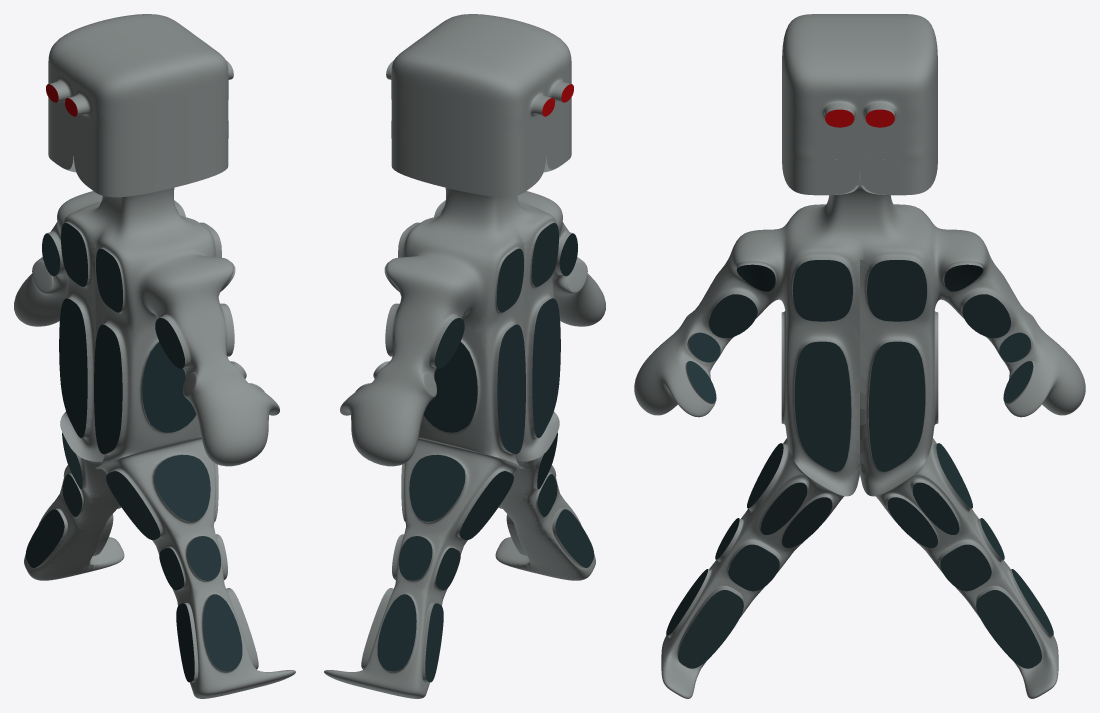
Rendered from character3.fbx.
3 views of the same model, side by side, from view 1: azimuth 30°, elevation 25°; view 2: azimuth 150°, elevation 25°; view 3: azimuth 270°, elevation 25° (orthographic). The views are drawn at different scales.
Parts seen in each view (by area): view 1: body, head, armor; view 2: body, head, armor; view 3: body, armor, head, eye2.
Boxes of the visible parts, bbox=[...] form: body: bbox=[14, 156, 295, 698]; head: bbox=[48, 14, 233, 197]; armor: bbox=[25, 223, 242, 682]; body: bbox=[324, 156, 605, 698]; head: bbox=[386, 14, 571, 197]; armor: bbox=[377, 223, 594, 682]; body: bbox=[634, 172, 1085, 698]; armor: bbox=[666, 260, 1053, 668]; head: bbox=[782, 14, 937, 195]; eye2: bbox=[825, 109, 894, 127].
Size of the model in its own units: 258 by 945 by 609.
